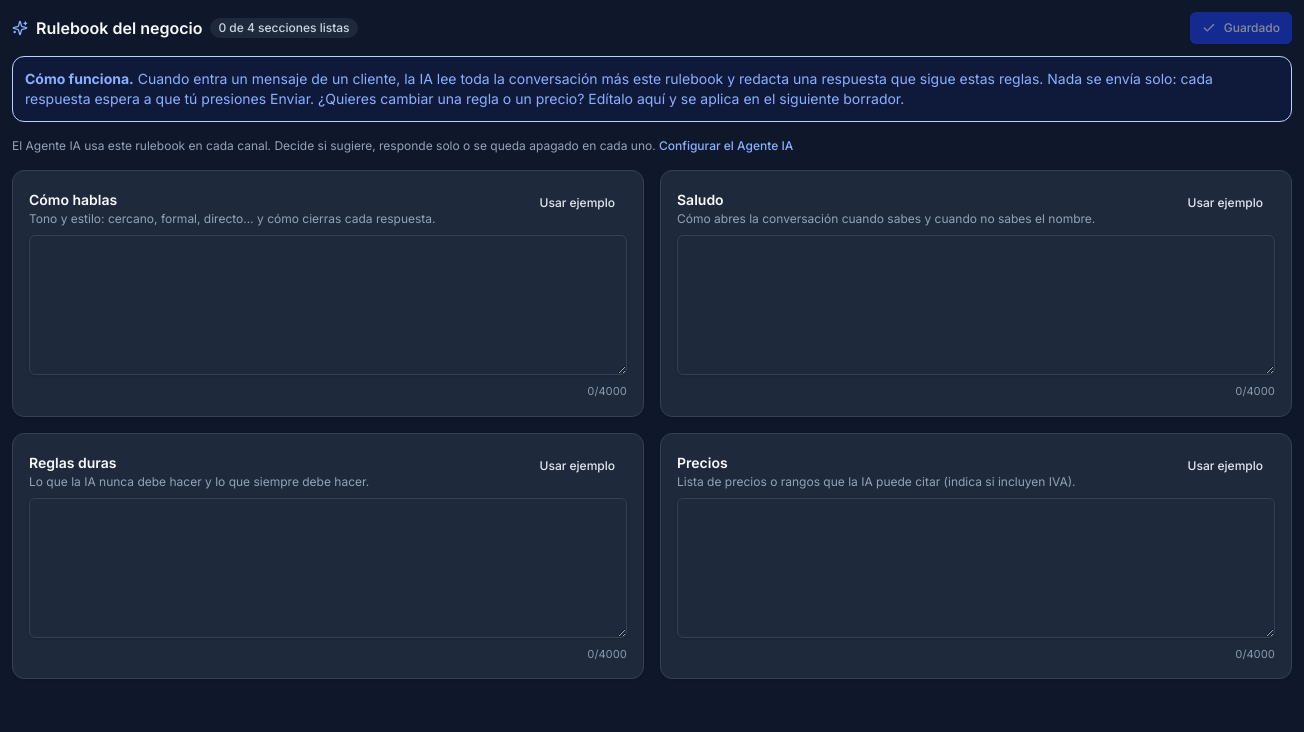
Test: RulebookEditor › guardar queda desactivado hasta que hay cambios, y luego guarda lo escrito
Expected: the button "Guardado" is disabled, top-left (1190, 12), bottom-right (1292, 44)
Type "No inventes precios" into the text box labelled "Reglas duras".
click(328, 568); type("No inventes precios")  # box top-left (29, 498), bottom-right (627, 638)
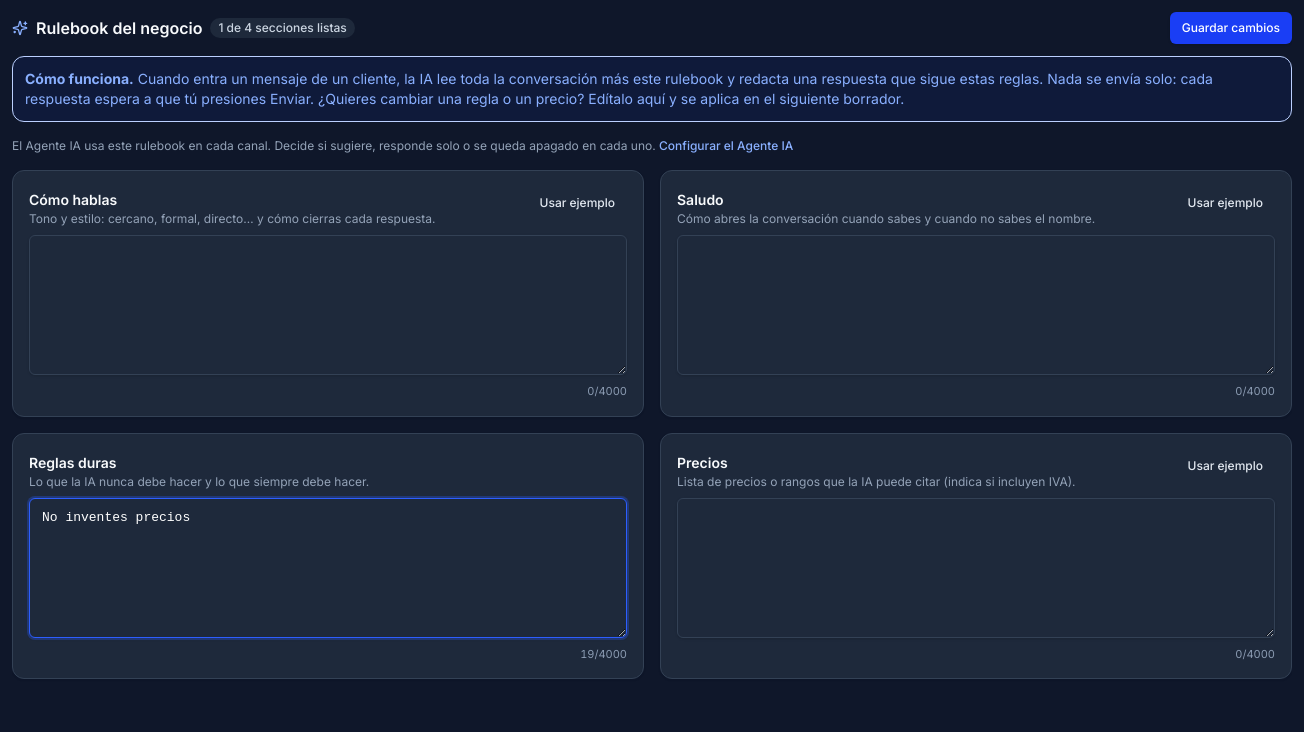
Click the button "Guardar cambios".
click(1231, 28)  # box top-left (1170, 12), bottom-right (1292, 44)
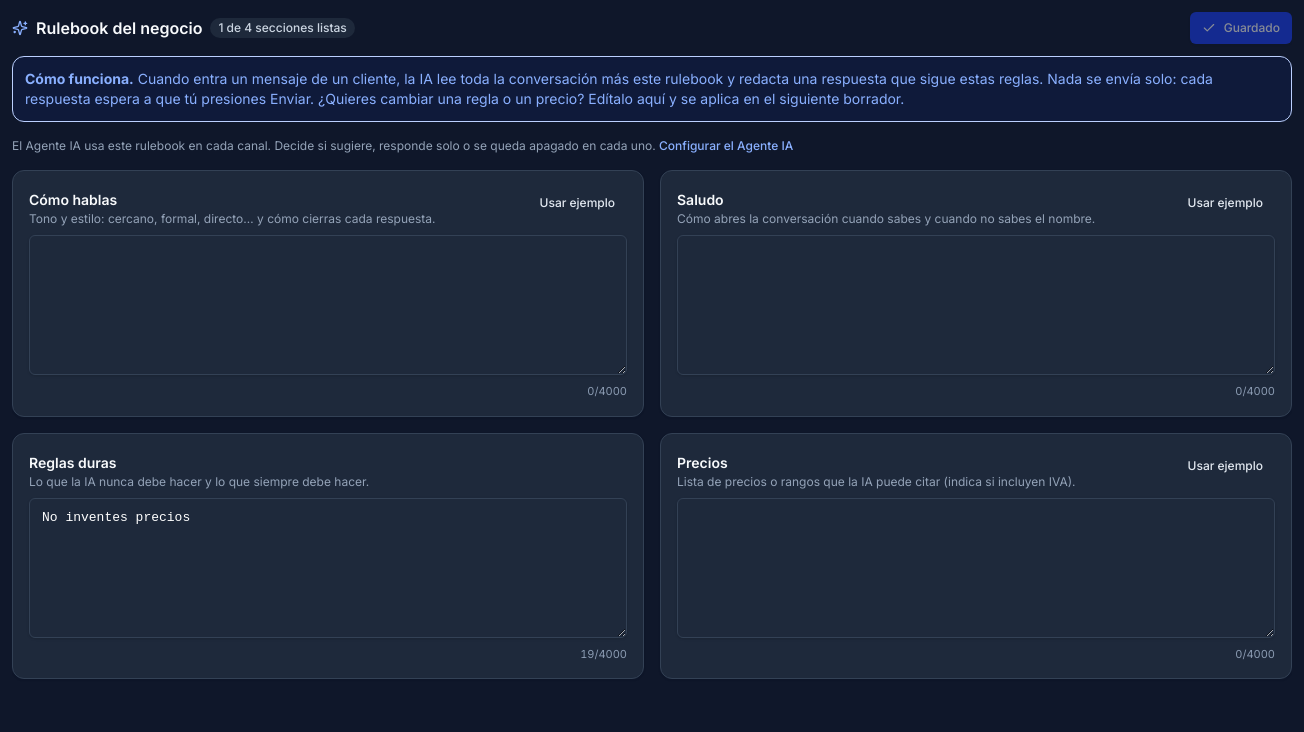
Expected: the button "Guardado" is disabled, top-left (1190, 12), bottom-right (1292, 44)
